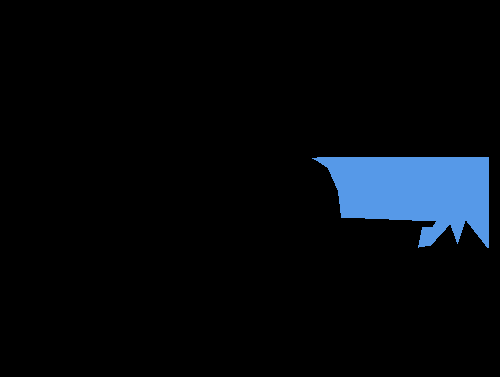Airplane: (312, 157, 489, 248)
